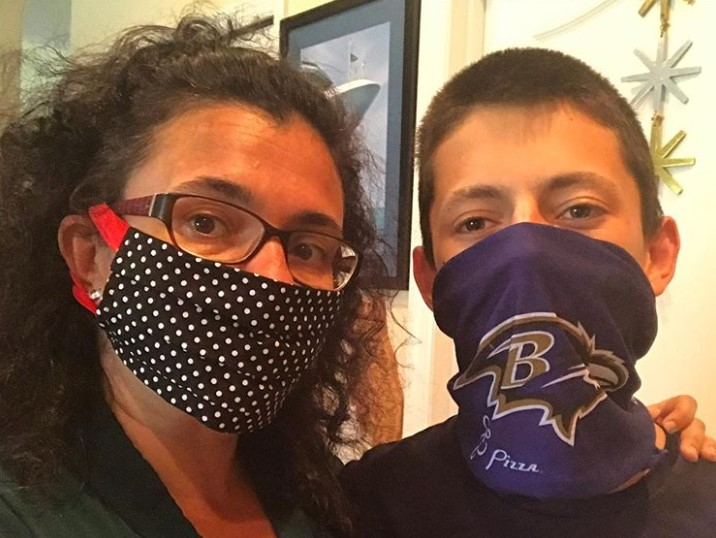face_with_mask: (54, 51, 367, 438), (412, 97, 671, 366)
